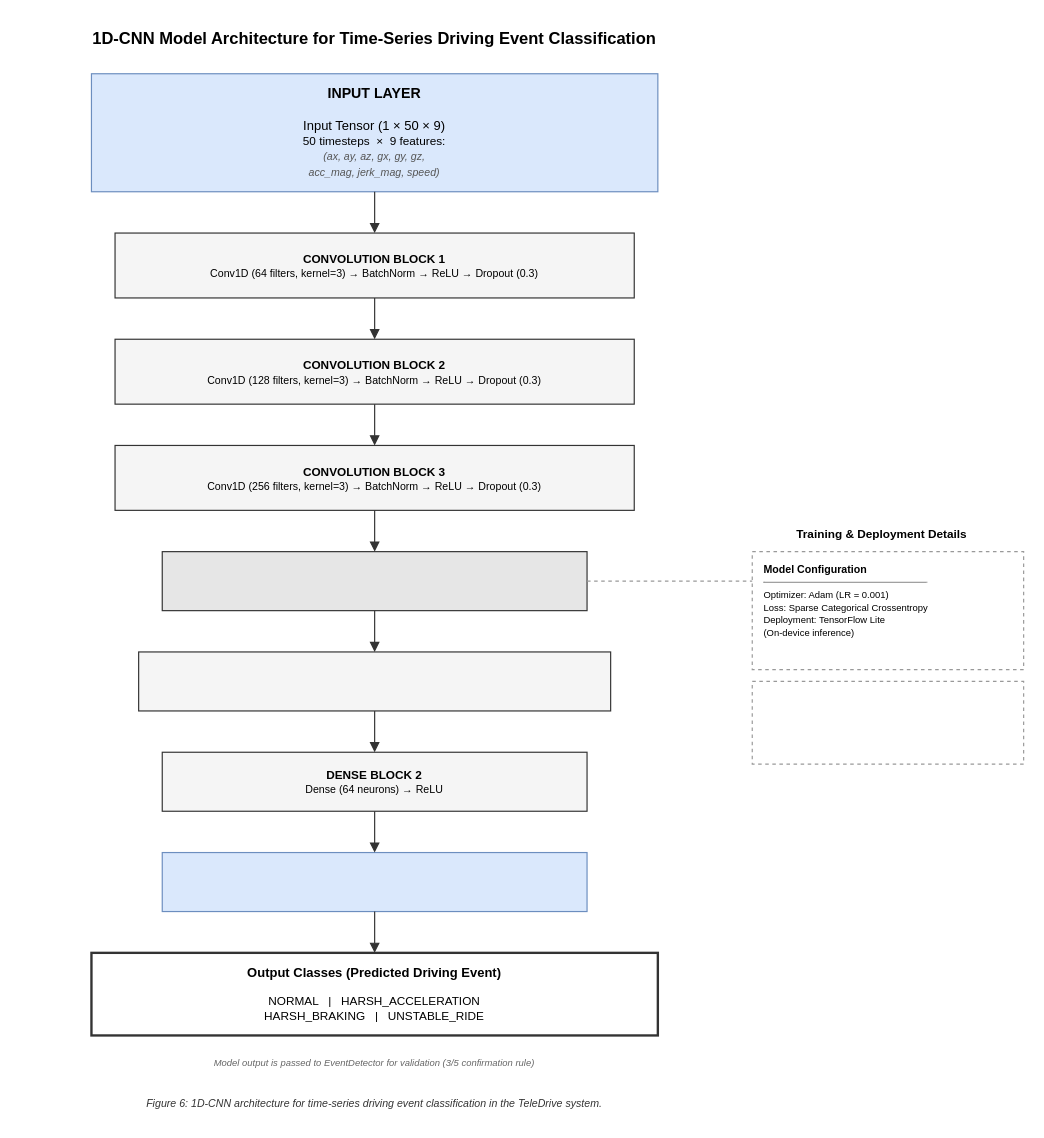
This 1044x1138 diagram has some shape labels left out. The centre of each missing label's shape, as x and y in pixels:
DENSE BLOCK 1 Dense (128 neurons) → ReLU → Dropout (0.4): the point at 374,681
Global Average Pooling Temporal Feature Aggregation: the point at 374,580
OUTPUT LAYER Dense (4 neurons) → Softmax: the point at 374,881
Performance Metrics Test Accuracy: 96% Macro F1 Score: 92.9%: the point at 887,722
